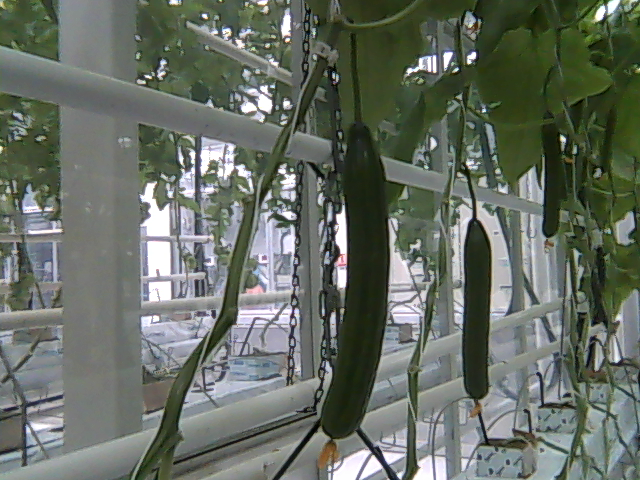concombre: (316, 114, 393, 472), (459, 212, 495, 419)
